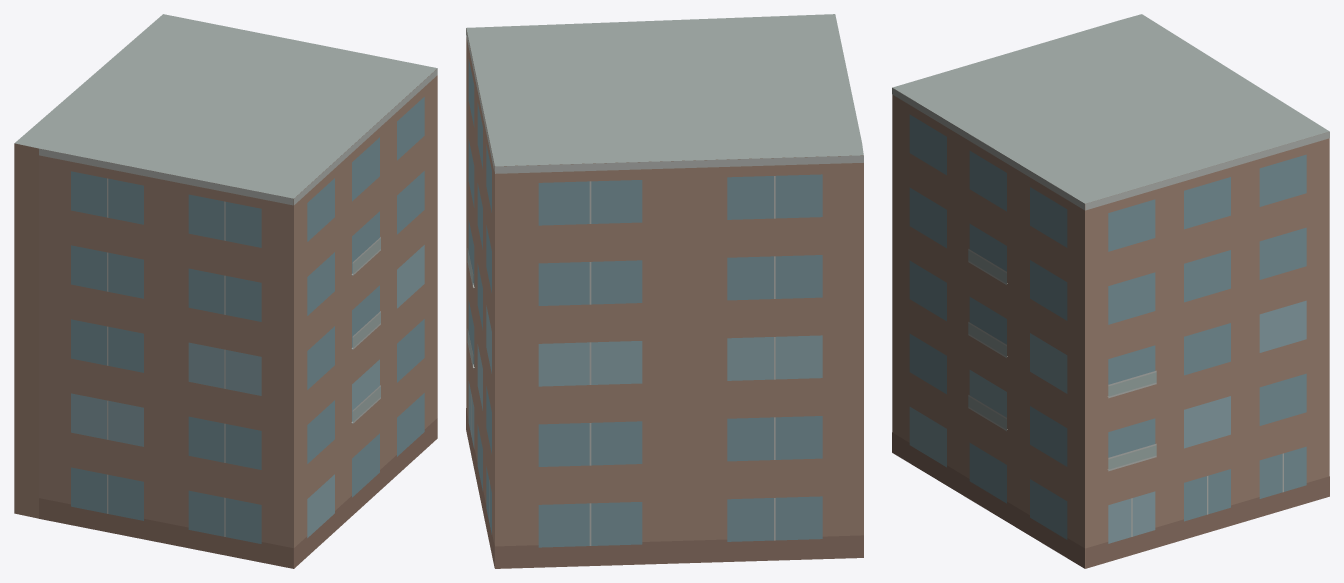
The model's file is survey-upis-32679389.glb.
3 renders of one model, left to right at view 1: azimuth 30°, elevation 25°; view 2: azimuth 150°, elevation 25°; view 3: azimuth 270°, elevation 25°, orthographic. The views are drawn at different scales.
Visible parts, largest first — view 1: survey-upis-32679389.tmp; view 2: survey-upis-32679389.tmp; view 3: survey-upis-32679389.tmp.
Boxes of the visible parts, bbox=[...] form: survey-upis-32679389.tmp: bbox=[14, 14, 437, 568]; survey-upis-32679389.tmp: bbox=[466, 14, 863, 568]; survey-upis-32679389.tmp: bbox=[892, 14, 1329, 568].
Size of the model in its own units: 14.67 by 13.15 by 14.29.
